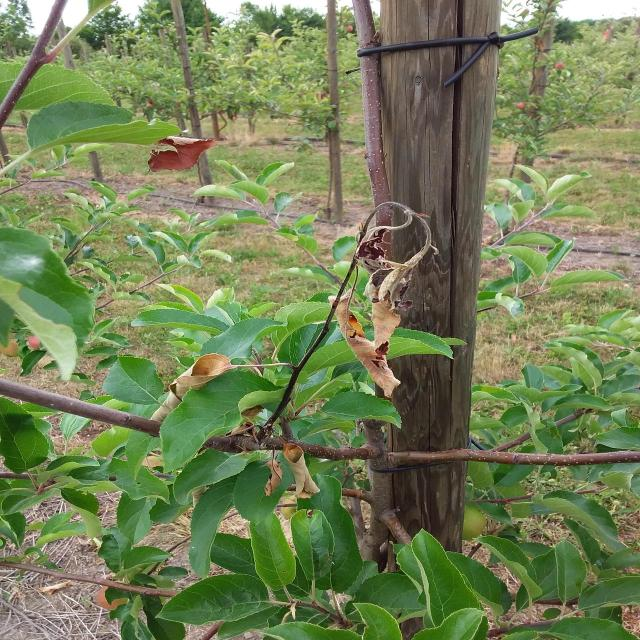-FireBlight-: (339, 193, 424, 392), (258, 422, 320, 480), (166, 341, 238, 376)
